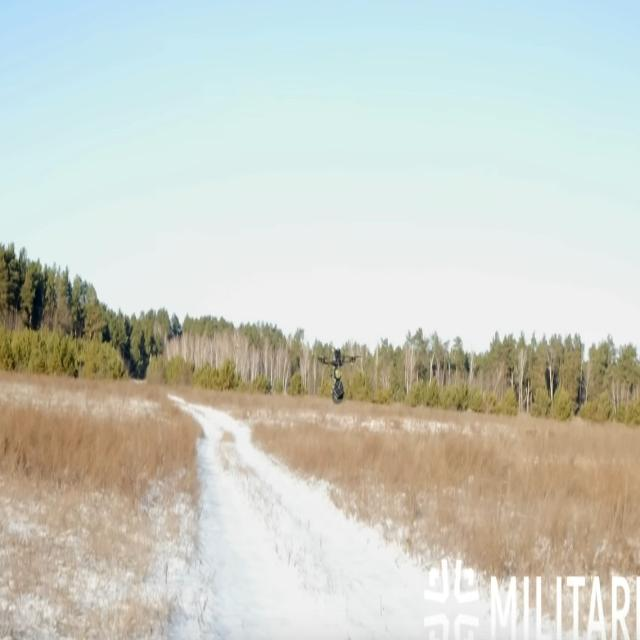drone: (314, 346, 364, 408)
